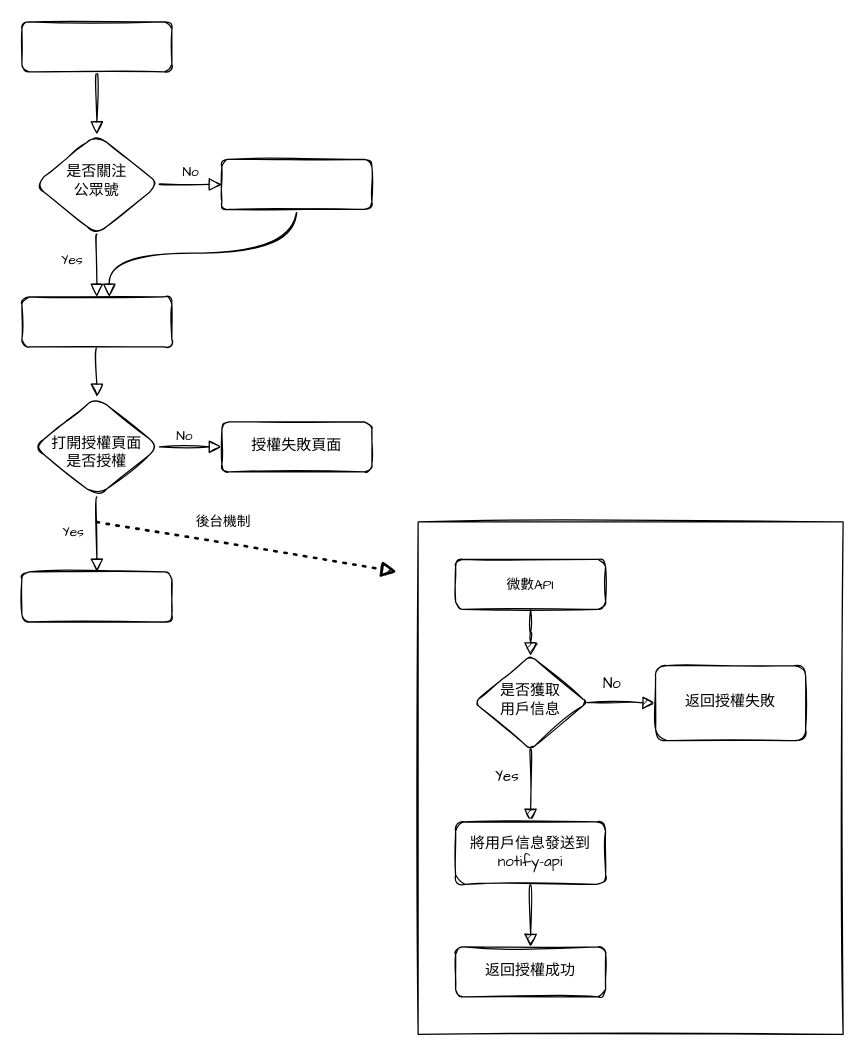
The diagram is 865 pixels wide and 1056 high, and some of its shapes have lost their labels. The box of each missing label's shape, as (x1, y1, x2, y2) in pixels:
彈出模板消息: (21, 296, 172, 347)
微信掃碼: (21, 21, 172, 72)
授權成功頁面: (21, 571, 172, 622)
關注公縱號: (221, 158, 372, 209)
